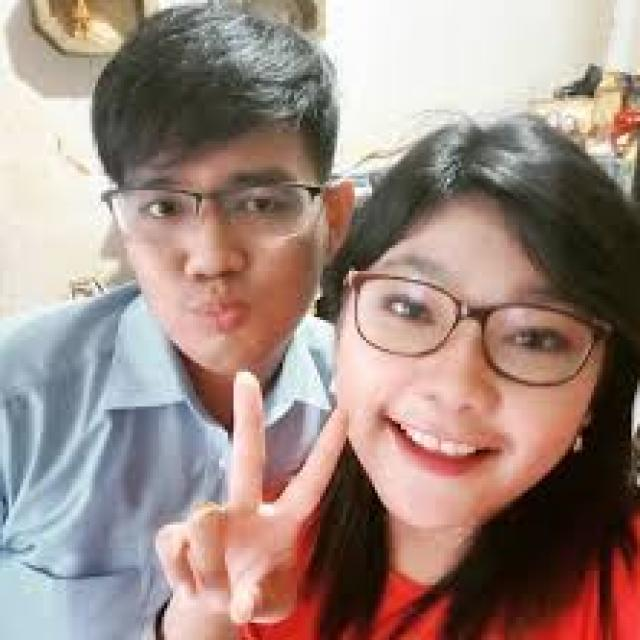Glasses: (346, 265, 617, 392), (95, 176, 329, 248)
